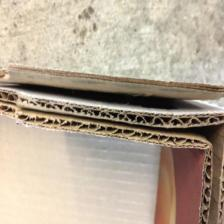cardboard: (0, 52, 224, 224)
